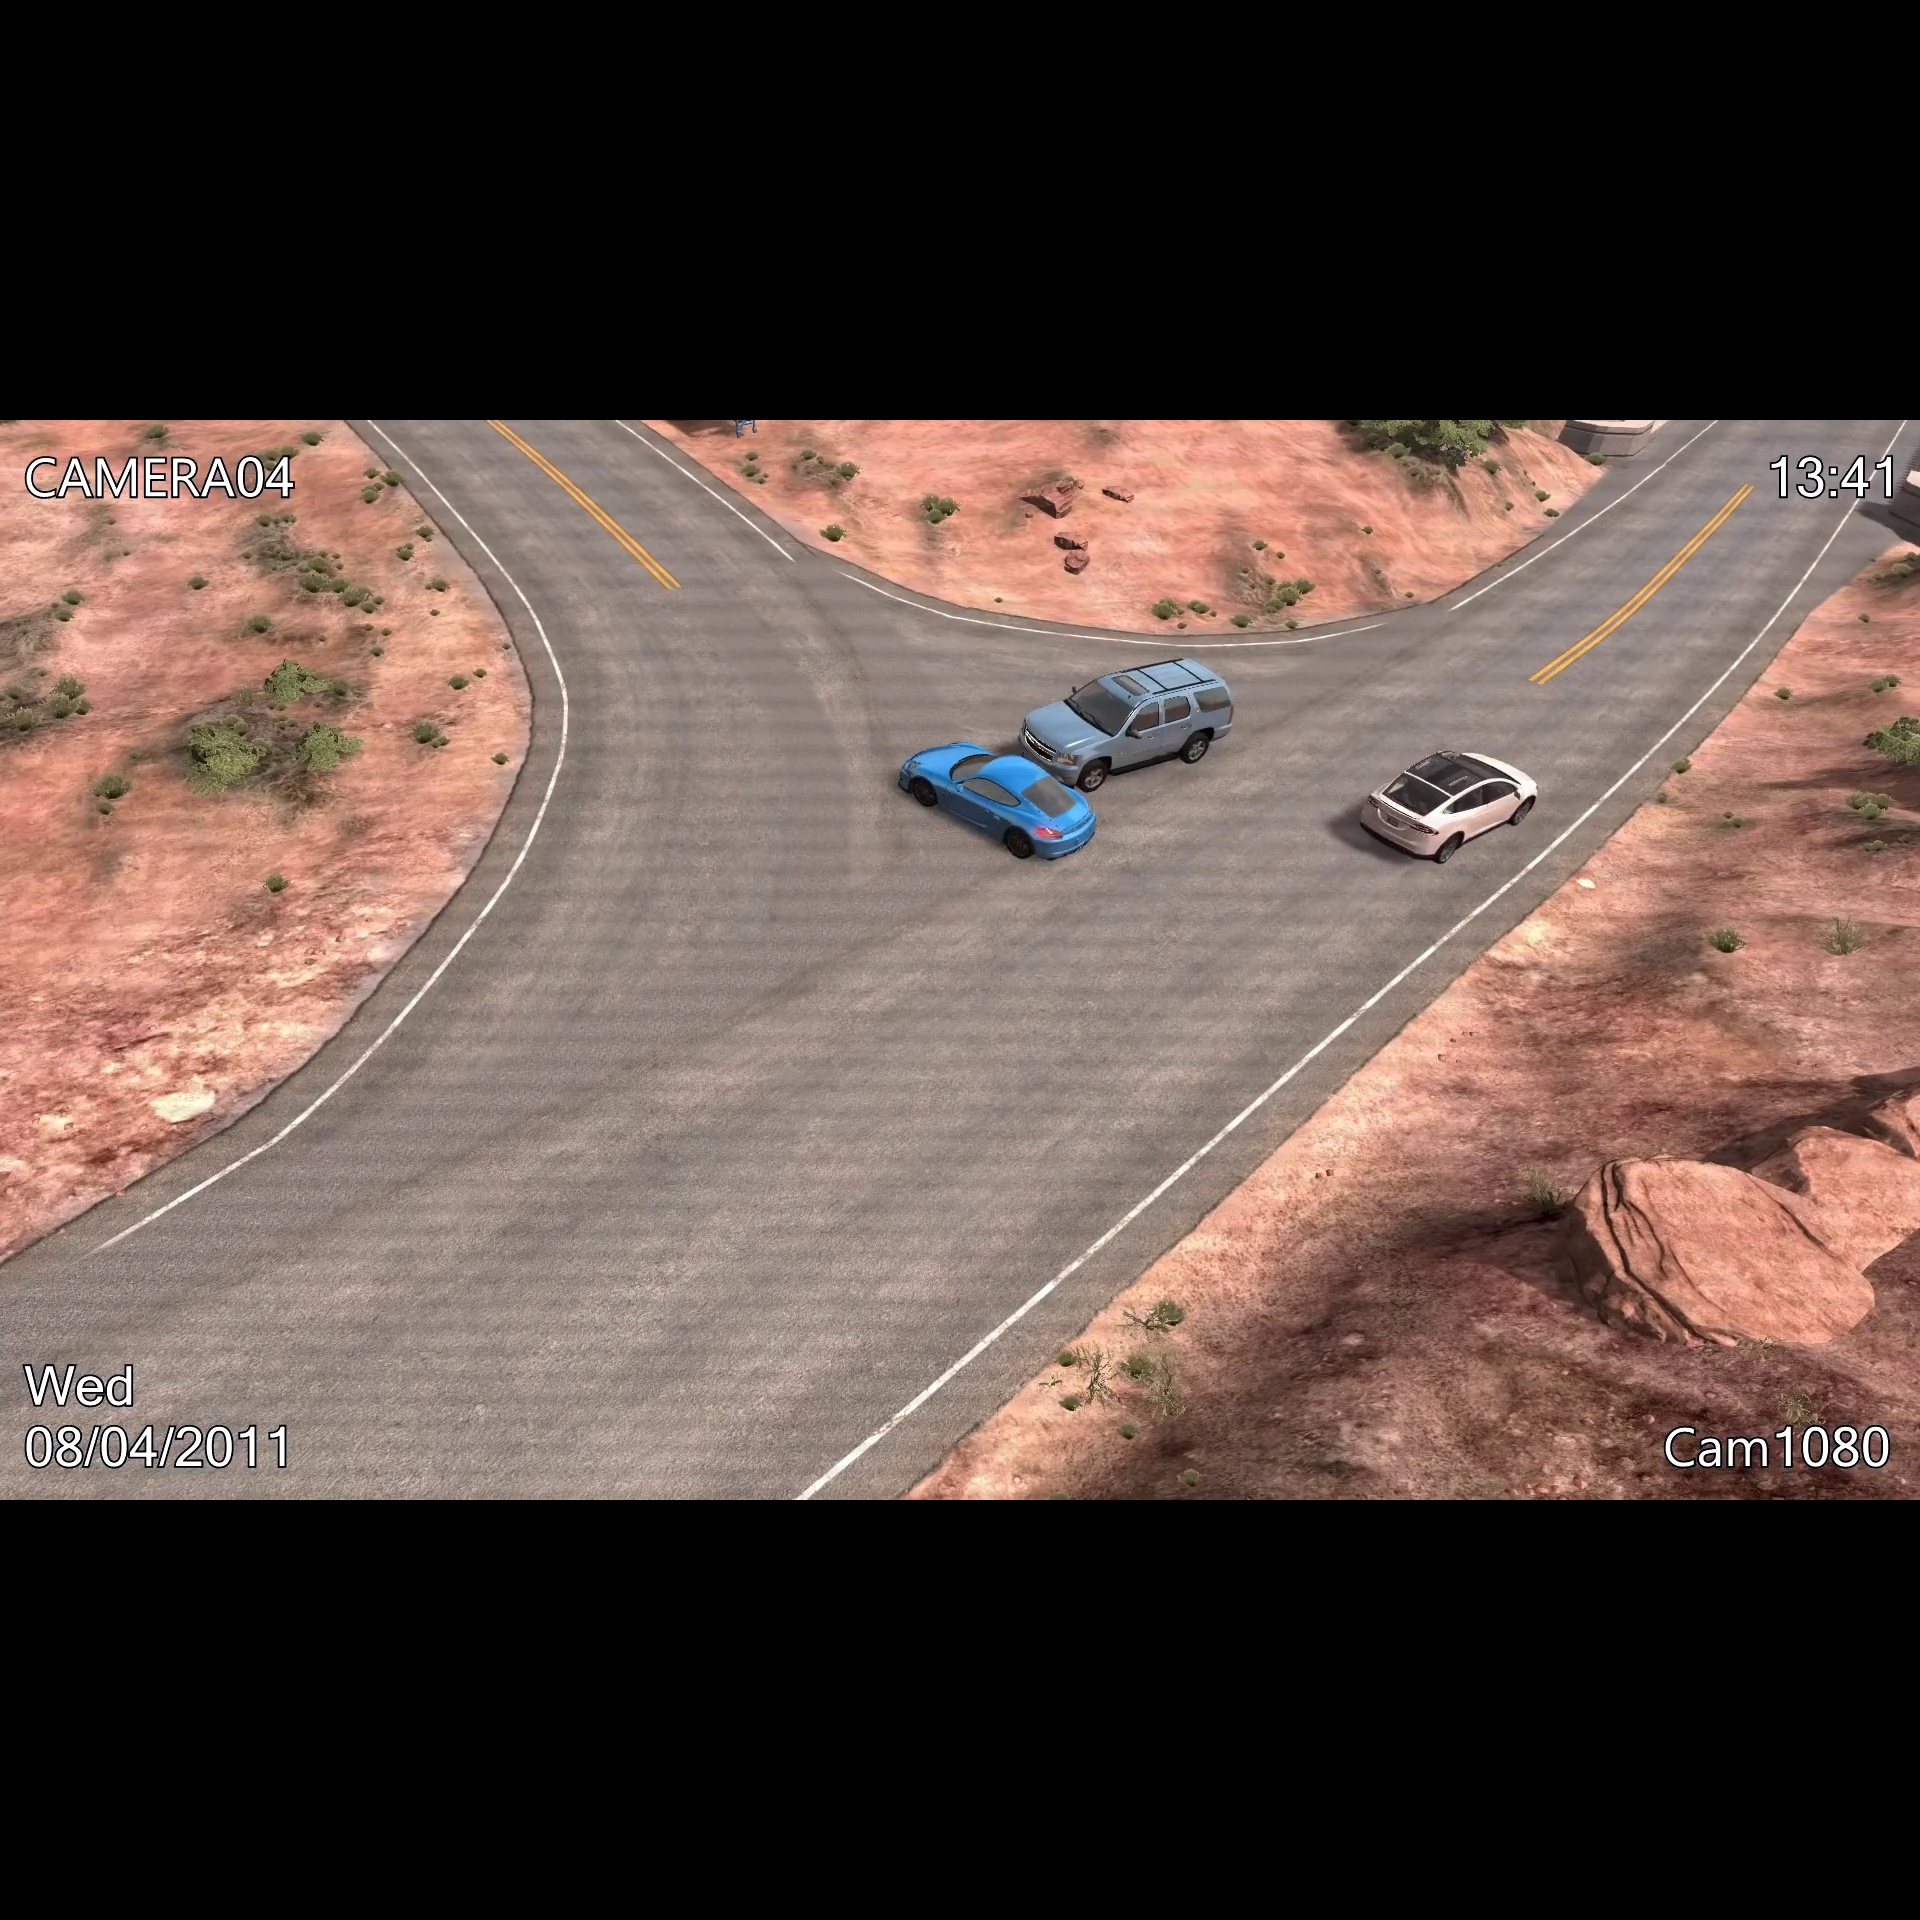vehicle: (1015, 644, 1247, 791), (888, 733, 1104, 870), (1354, 738, 1549, 874)
